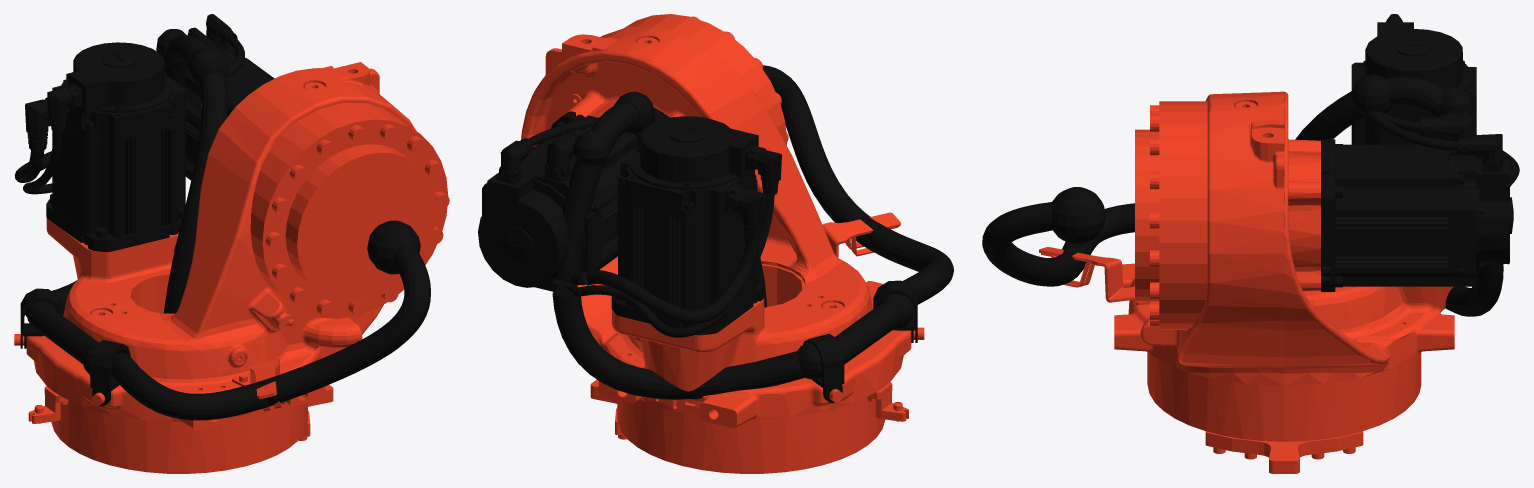
The picture shows the model from 3 angles, left to right: view 1: azimuth 30°, elevation 25°; view 2: azimuth 150°, elevation 25°; view 3: azimuth 270°, elevation 25°; orthographic projection. The views are drawn at different scales.
Visible parts, largest first — view 1: link_1; view 2: link_1; view 3: link_1.
Part boxes in pixels (x1=…): link_1: x1=14, y1=14, x2=449, y2=473; link_1: x1=478, y1=14, x2=953, y2=473; link_1: x1=982, y1=14, x2=1519, y2=473.
Bounding box in the file's own units: 0.4699 × 0.5588 × 0.4184.
